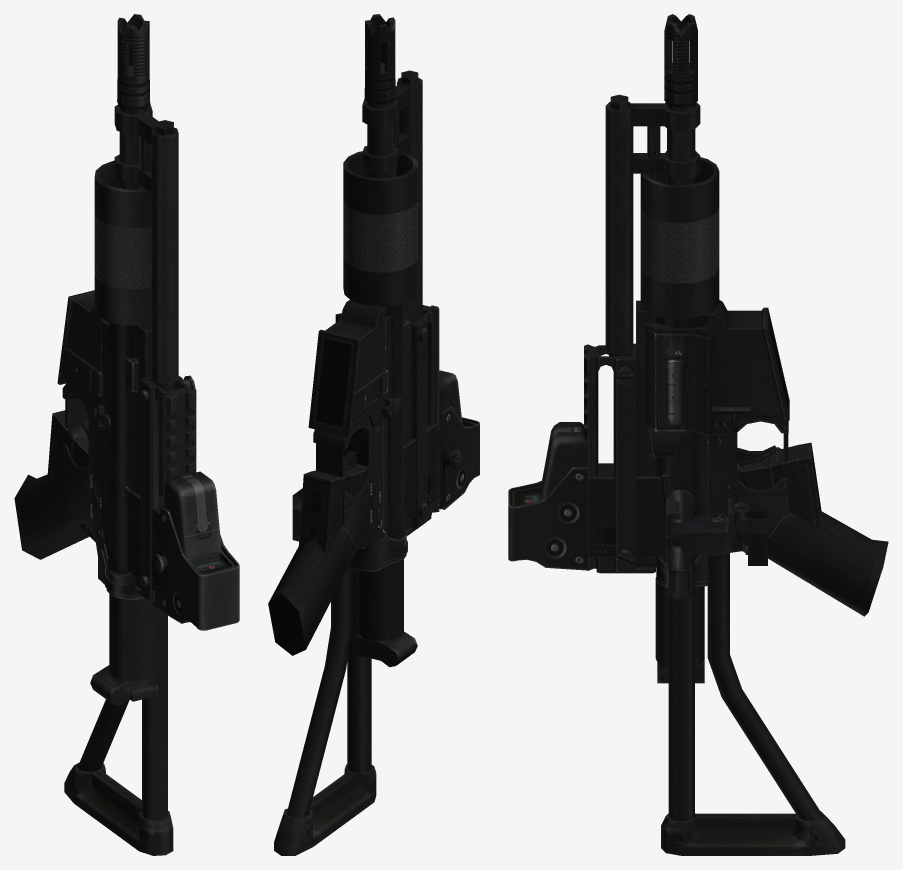
3 views of the same model, side by side, from view 1: azimuth 30°, elevation 25°; view 2: azimuth 150°, elevation 25°; view 3: azimuth 270°, elevation 25° (orthographic). The views are drawn at different scales.
Visible parts, largest first — view 1: Model_Body, Model_Butt, DotSight, Model_Magazine; view 2: Model_Body, Model_Butt, Model_Magazine, DotSight, Model_Handle; view 3: Model_Body, Model_Butt, DotSight, Model_Magazine, Model_Handle.
Part boxes in pixels (x1=…): Model_Body: x1=14, y1=14, x2=196, y2=705; Model_Butt: x1=64, y1=609, x2=173, y2=855; DotSight: x1=151, y1=471, x2=239, y2=630; Model_Magazine: x1=47, y1=410, x2=162, y2=594; Model_Body: x1=268, y1=14, x2=439, y2=667; Model_Butt: x1=274, y1=567, x2=376, y2=855; Model_Magazine: x1=298, y1=423, x2=438, y2=555; DotSight: x1=439, y1=370, x2=479, y2=509; Model_Handle: x1=292, y1=488, x2=302, y2=541; Model_Body: x1=584, y1=14, x2=888, y2=683; Model_Butt: x1=661, y1=498, x2=845, y2=855; DotSight: x1=508, y1=422, x2=587, y2=570; Model_Magazine: x1=588, y1=442, x2=822, y2=557; Model_Handle: x1=734, y1=502, x2=767, y2=565.
Bounding box in the file's own units: 0.066 × 0.6284 × 0.2646.
3 materials, 3 textured.
